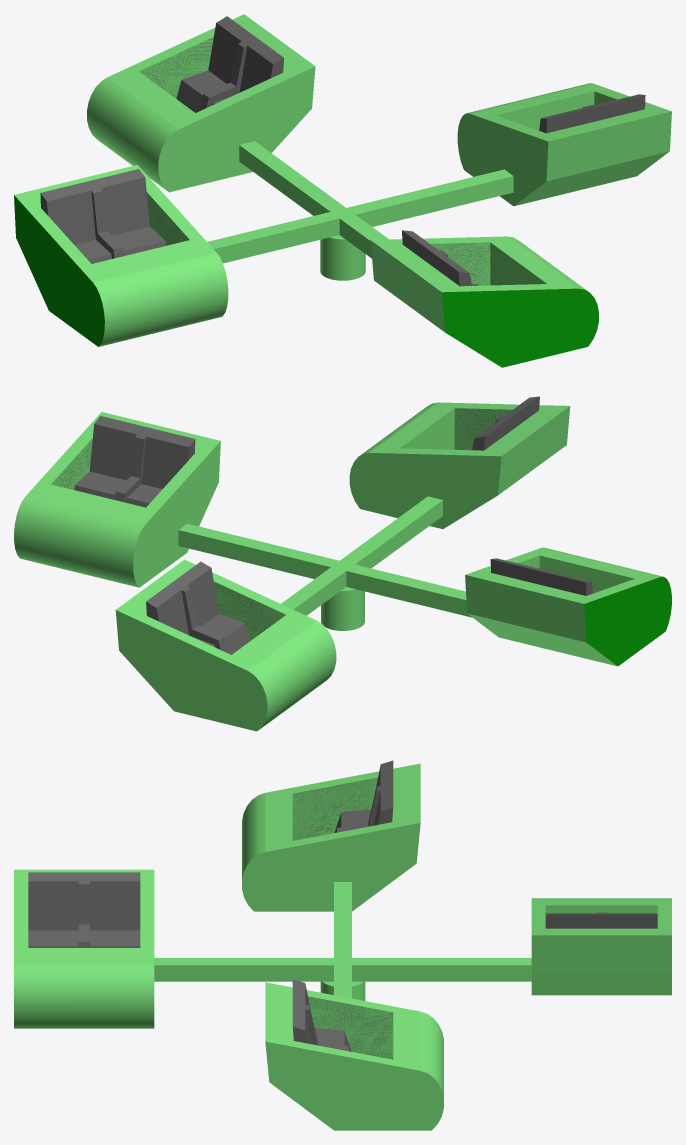
File: car_green.glb
The picture shows the model from 3 angles, top to bottom: view 1: azimuth 30°, elevation 25°; view 2: azimuth 150°, elevation 25°; view 3: azimuth 270°, elevation 25°; orthographic projection. The views are drawn at different scales.
Visible parts, largest first — view 1: SketchUp.009, SketchUp, SketchUp.019, SketchUp.008, SketchUp.032, SketchUp.017, SketchUp.028, SketchUp.025, SketchUp.010, SketchUp.014, SketchUp.001, SketchUp.033 (+4 smaller); view 2: SketchUp.009, SketchUp, SketchUp.028, SketchUp.008, SketchUp.019, SketchUp.001, SketchUp.025, SketchUp.010, SketchUp.016, SketchUp.017, SketchUp.031, SketchUp.026 (+3 smaller); view 3: SketchUp, SketchUp.019, SketchUp.028, SketchUp.009, SketchUp.008, SketchUp.026, SketchUp.023, SketchUp.006, SketchUp.001, SketchUp.017, SketchUp.010, SketchUp.012.
Boxes of the visible parts, x1,y1,x2,y2 form: SketchUp.009: (87,14,315,192); SketchUp: (457,83,671,206); SketchUp.019: (14,165,228,346); SketchUp.008: (207,141,513,280); SketchUp.032: (441,288,598,367); SketchUp.017: (40,169,165,263); SketchUp.028: (370,236,588,332); SketchUp.025: (14,195,104,346); SketchUp.010: (176,16,283,112); SketchUp.014: (139,37,213,98); SketchUp.001: (539,94,645,133); SketchUp.033: (430,242,490,285); SketchUp.009: (115,559,336,731); SketchUp: (14,412,220,587); SketchUp.028: (349,402,570,528); SketchUp.008: (178,496,471,630); SketchUp.019: (465,547,663,666); SketchUp.001: (74,416,195,507); SketchUp.025: (584,577,671,665); SketchUp.010: (146,561,249,654); SketchUp.016: (214,581,285,640); SketchUp.017: (490,558,592,595); SketchUp.031: (454,408,512,449); SketchUp.026: (465,396,539,450); SketchUp: (265,982,443,1130); SketchUp.019: (242,763,420,911); SketchUp.028: (14,869,154,1028); SketchUp.009: (531,898,671,995); SketchUp.008: (154,882,531,1000); SketchUp.026: (28,872,140,947); SketchUp.023: (292,777,377,840); SketchUp.006: (308,996,393,1059); SketchUp.001: (292,979,351,1051); SketchUp.017: (334,760,393,832); SketchUp.010: (545,912,657,928); SketchUp.012: (545,905,657,913).
Bounding box in the file's own units: 7.33 × 1.54 × 7.33.
